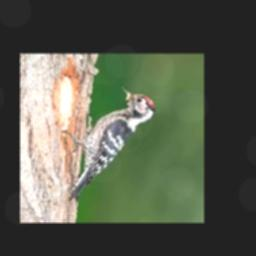Woodpecker: (63, 87, 156, 200)
